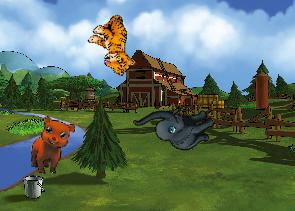bear: (29, 115, 76, 177)
elephant: (132, 84, 220, 168)
tiger: (81, 9, 150, 79)
